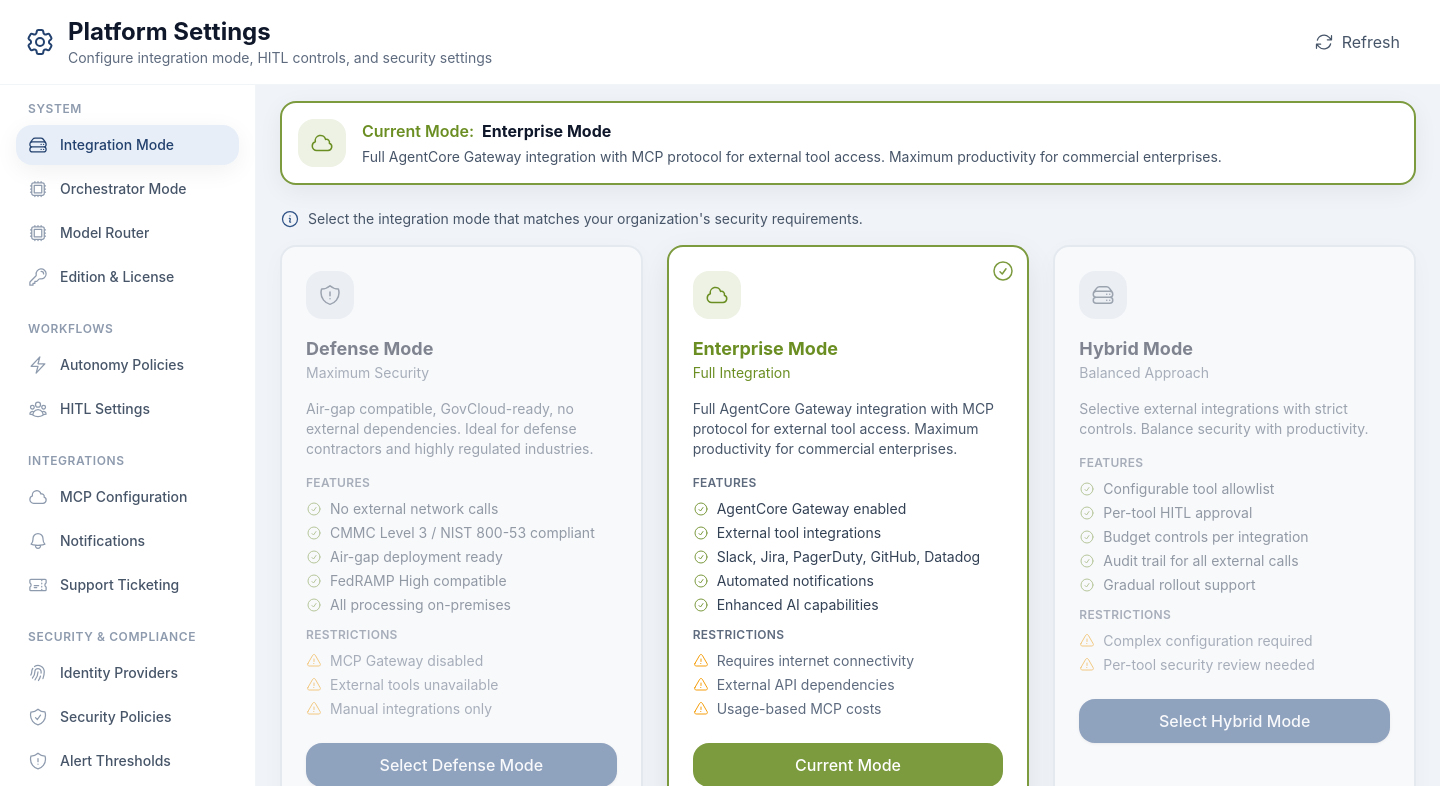
Test: SettingsPage › switches to HITL tab on click
Expected: the text "HITL Settings" is shown, [60,399,150,419]
Click the button "HITL Settings" at (128, 409), box [16,389,239,429]
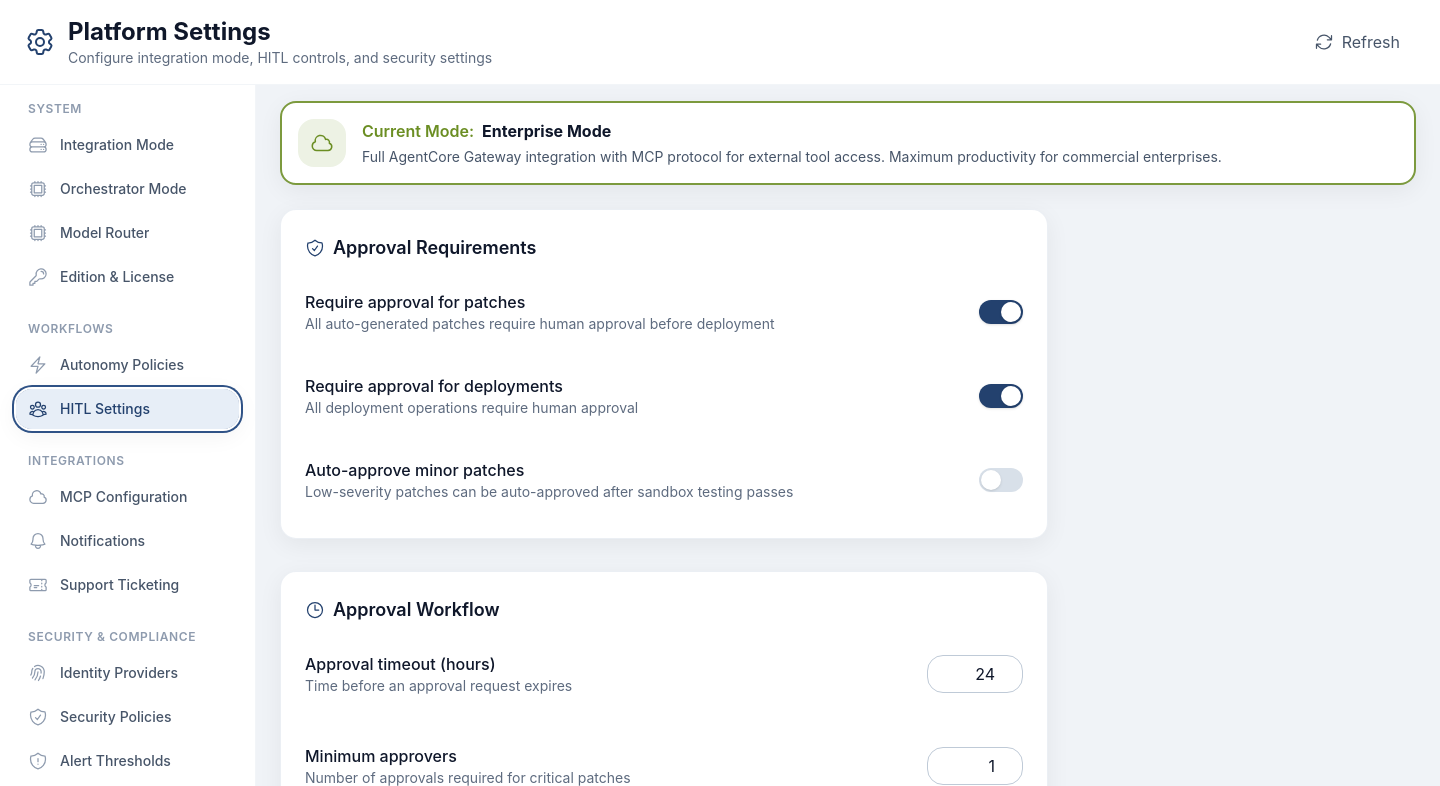
Result: the heading "Approval Requirements" is shown at [305,237,536,258]
